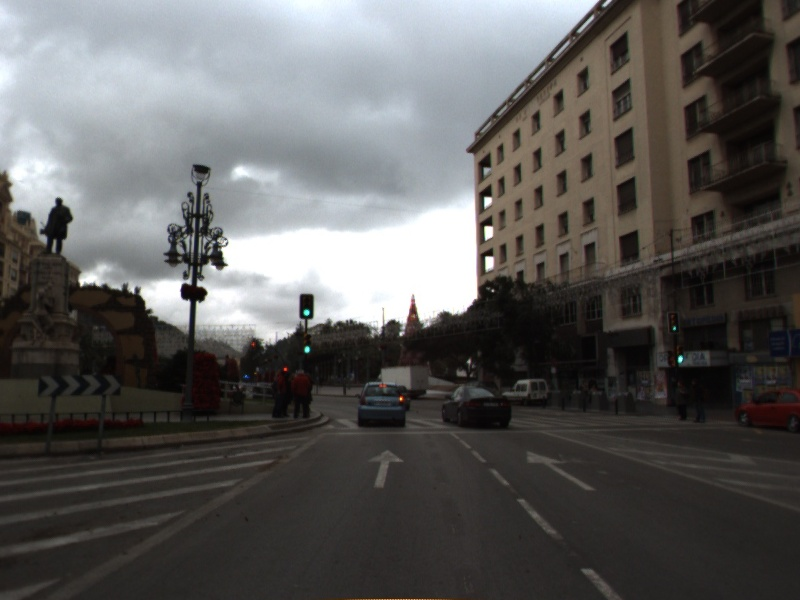STRAIGHT: (523, 448, 601, 493), (366, 447, 407, 490)
